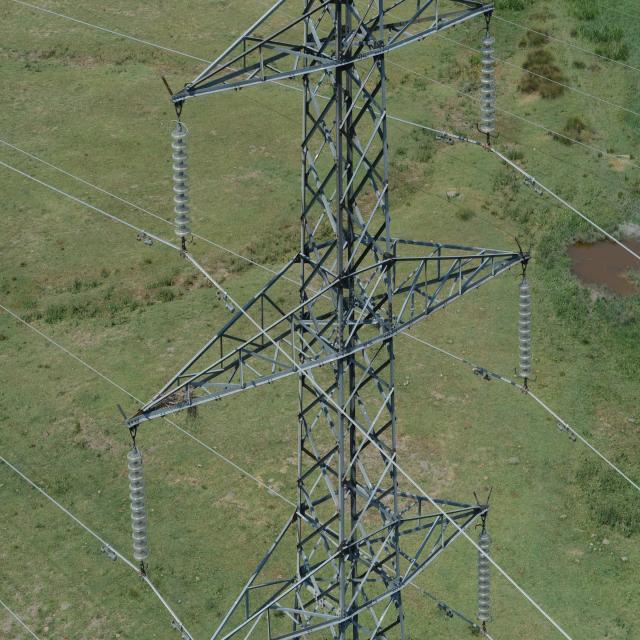sag_alt: (296, 9, 413, 640)
